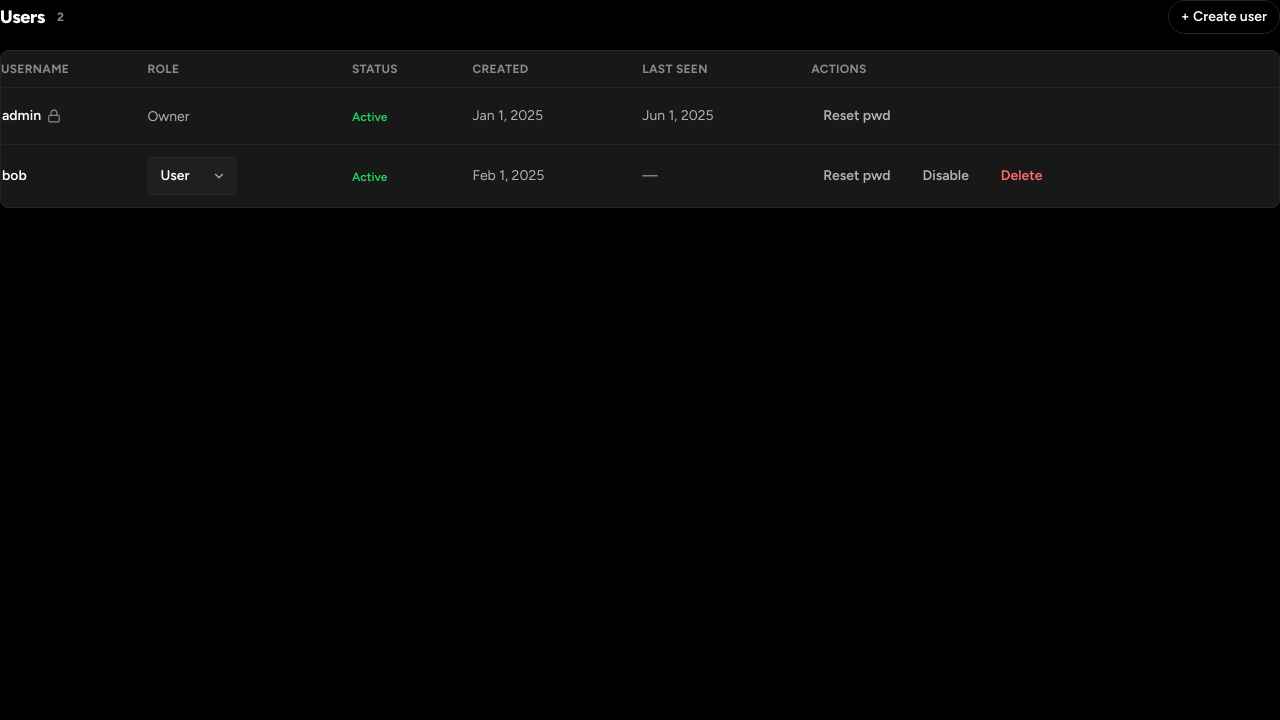
Scenario: UsersSection › Create user modal › "Create user" button opens the modal
The image size is (1280, 720).
Click the button "+ Create user".
click(1224, 17)  # box [1168,0,1279,34]
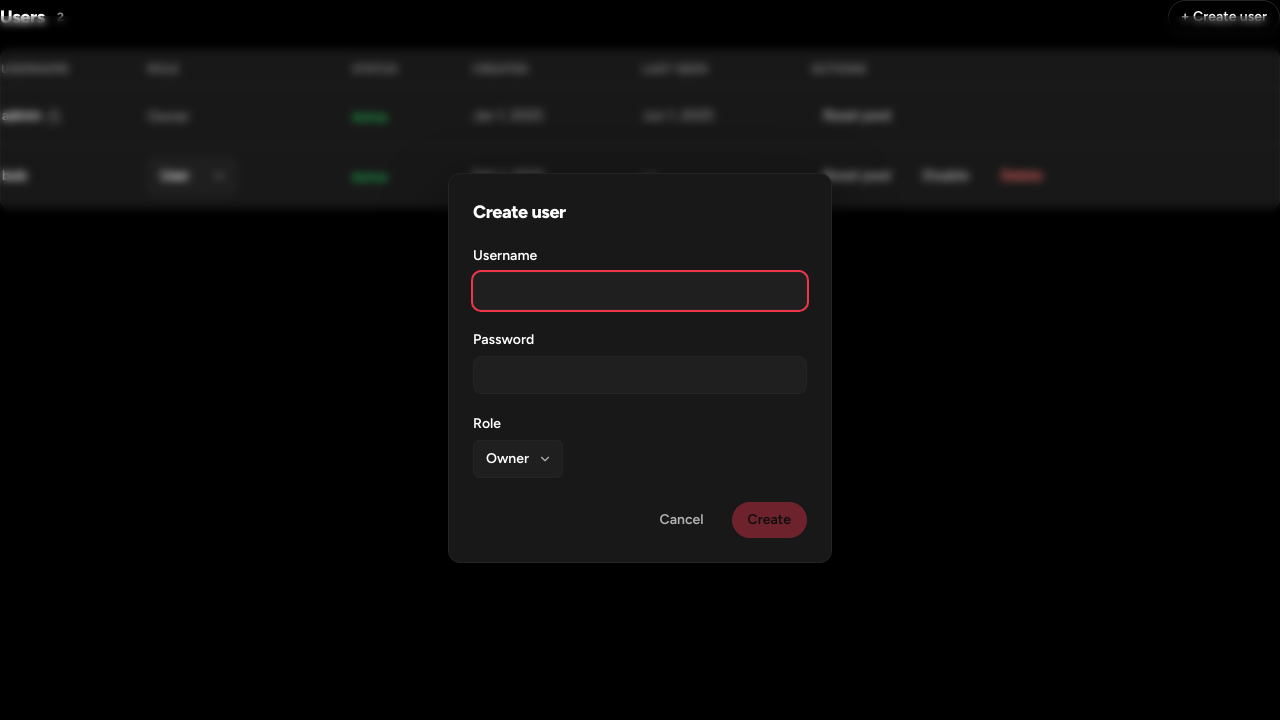
Now the dialog is shown, box [448,173,832,563]
